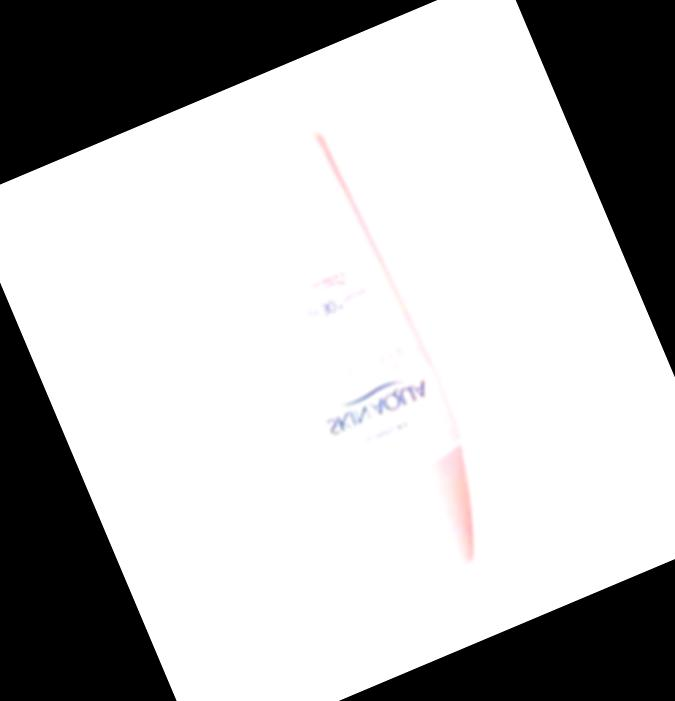cosmetic: (203, 115, 512, 605)
